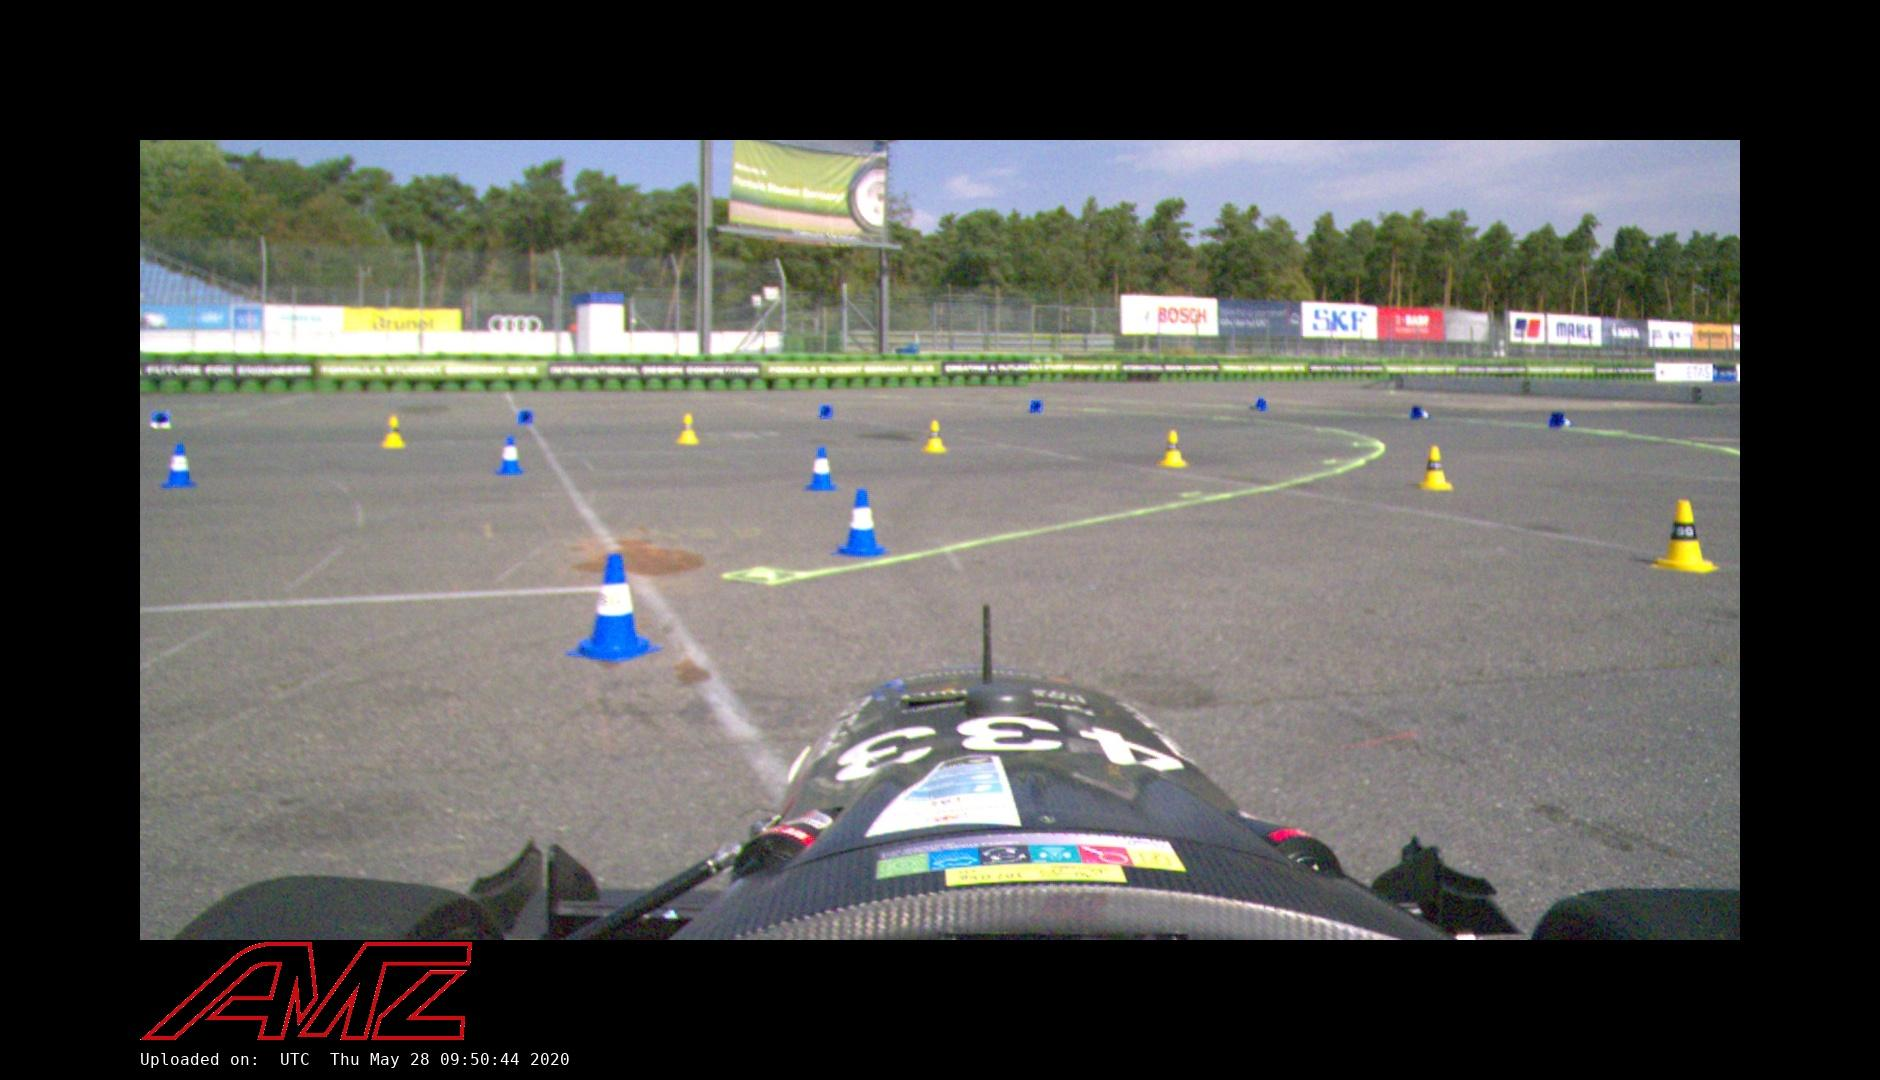blue_cone: (566, 550, 662, 663), (832, 487, 891, 559), (159, 443, 198, 490), (803, 446, 841, 491), (492, 435, 527, 475), (1548, 411, 1574, 429), (150, 410, 170, 428), (1409, 406, 1432, 421), (516, 410, 535, 426), (816, 404, 835, 420), (1250, 397, 1268, 411), (1029, 399, 1045, 413)
yellow_cone: (1651, 496, 1720, 574), (1416, 446, 1456, 491), (1157, 429, 1190, 468), (380, 415, 408, 450), (922, 420, 949, 453), (675, 413, 700, 444)
